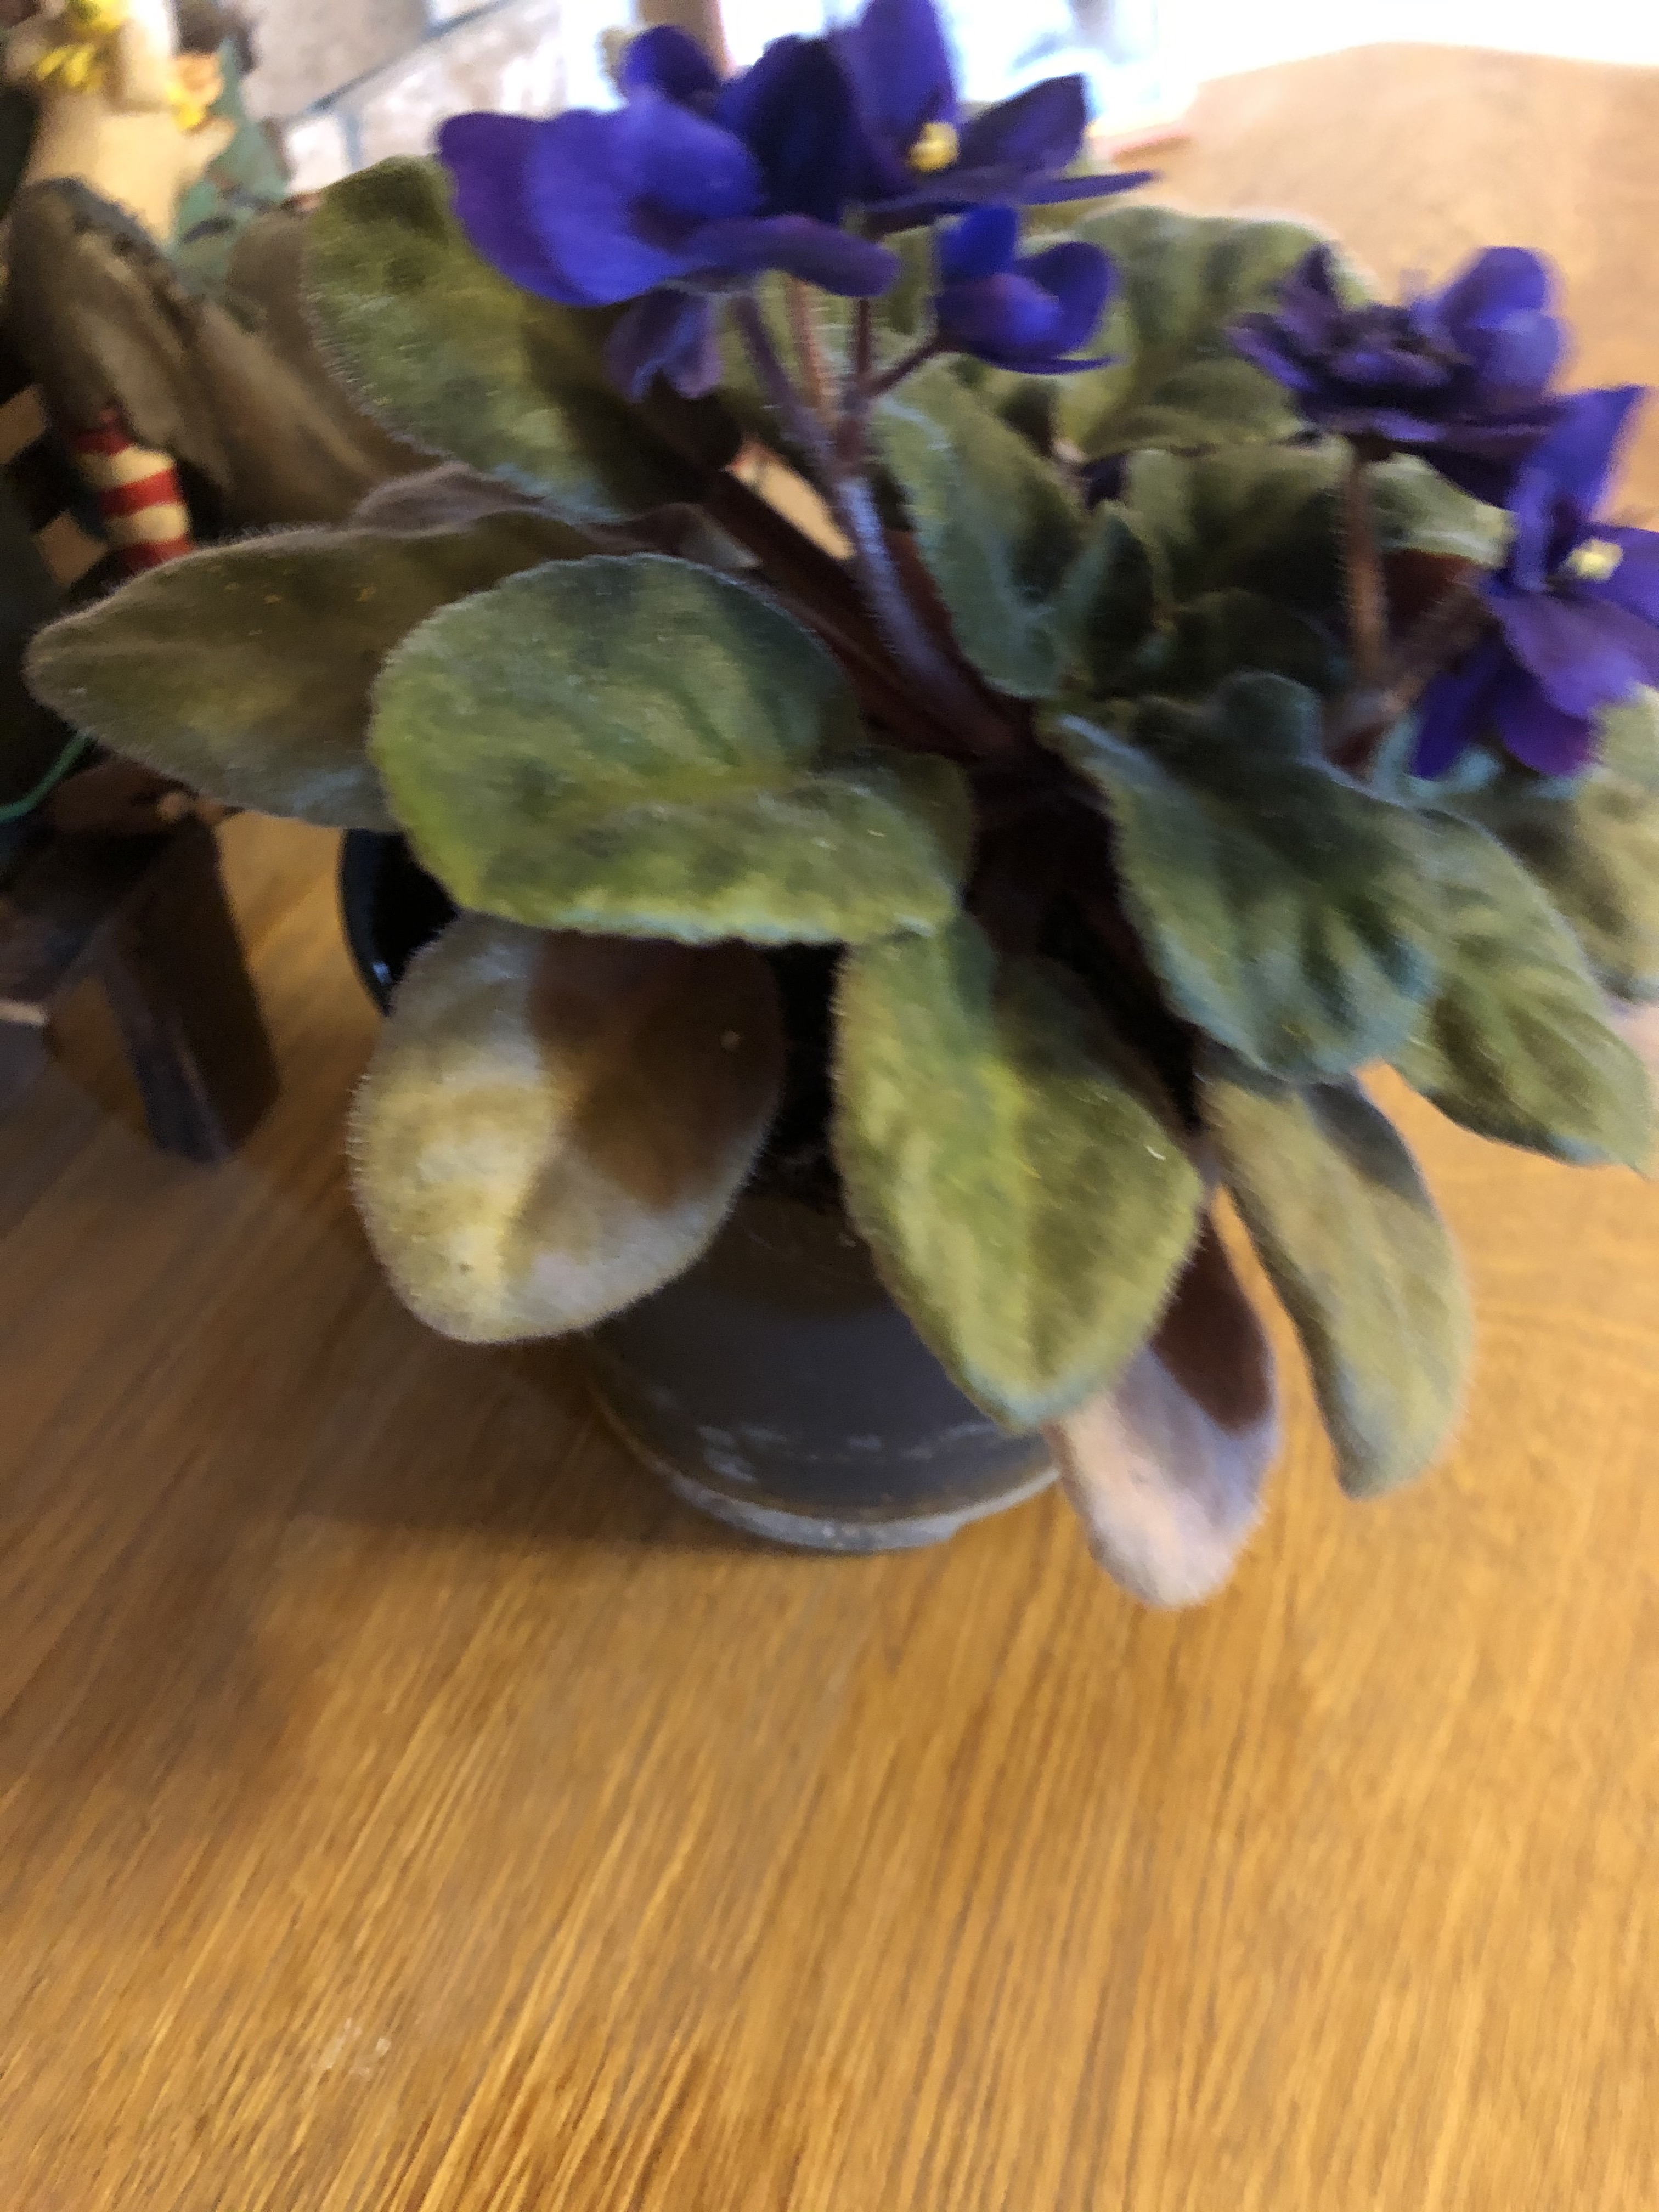ignore: (138, 33, 1647, 1474)
